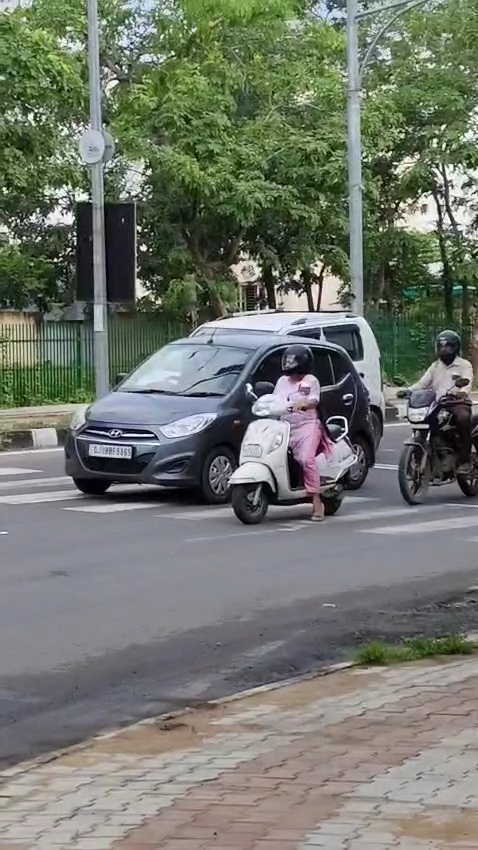BikeWithRider: (220, 337, 365, 531), (389, 317, 478, 513)
Helmet: (276, 341, 315, 380), (429, 325, 465, 366)
